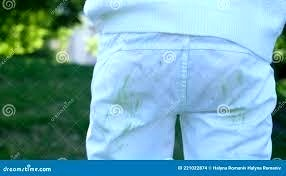earth: (111, 79, 148, 117), (219, 83, 233, 101), (234, 71, 243, 84)
